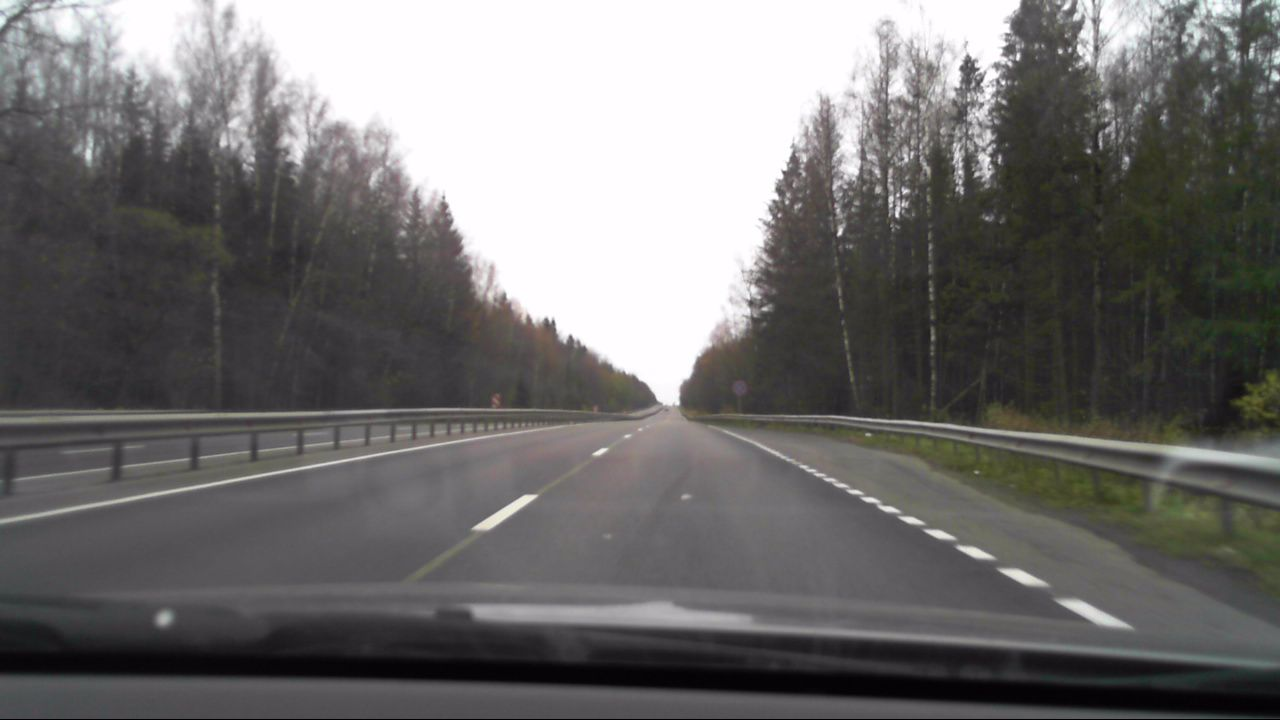No Parking: (730, 377, 749, 398)
